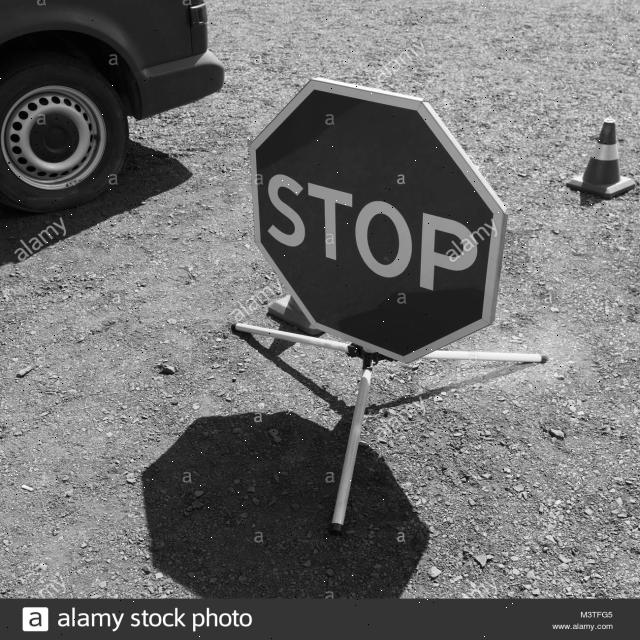Stop-sign: (223, 69, 532, 396)
